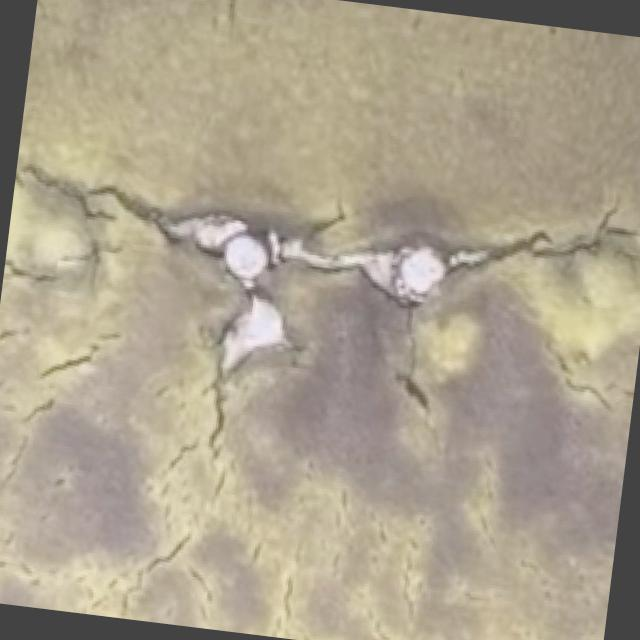crack: (488, 200, 635, 276), (58, 322, 126, 404), (386, 321, 426, 396), (206, 390, 242, 458)
